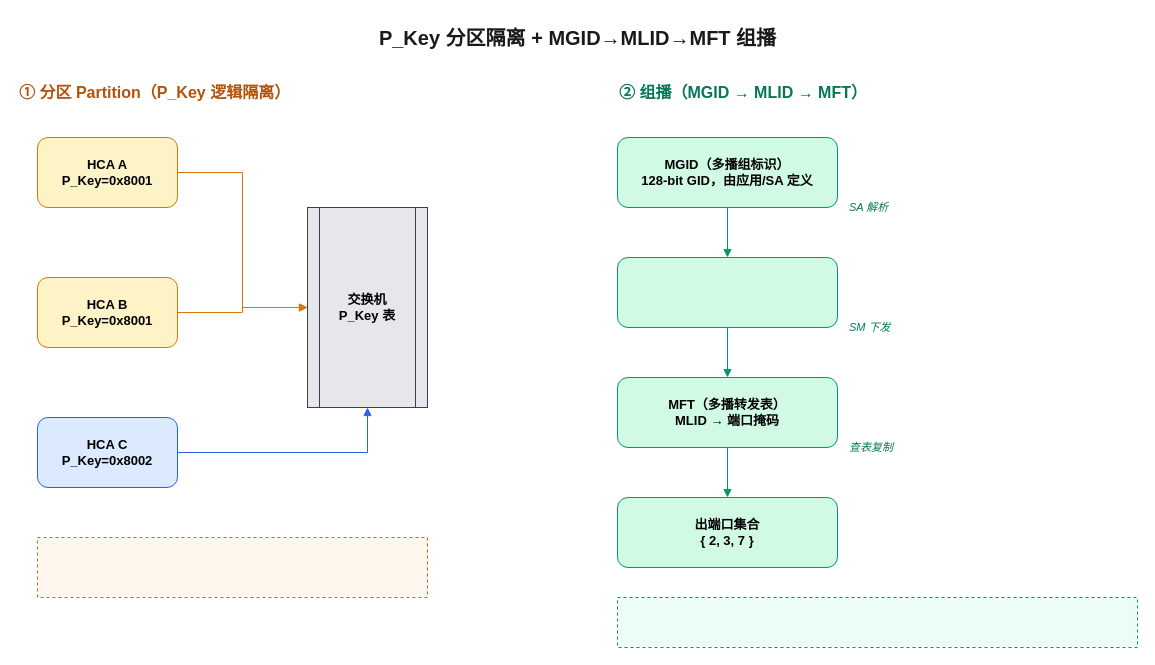
Some shapes in this 1155 by 665 pixel diagram are drawn without their labels. Here are the shapes that lost their labels. From the top down, the centre of each, then its label:
(727,292): MLID（多播 LID） 16-bit，由 SA 分配
(232,567): P_Key=0x8001 的分区成员彼此互通； P_Key=0x8002 的 HCA C 与 A/B 互不可见 （即使同在一个物理子网）
(877,622): 集合通信（MPI barrier/广播）借助组播： 报文只发一份，交换机按 MFT 复制到各成员端口
